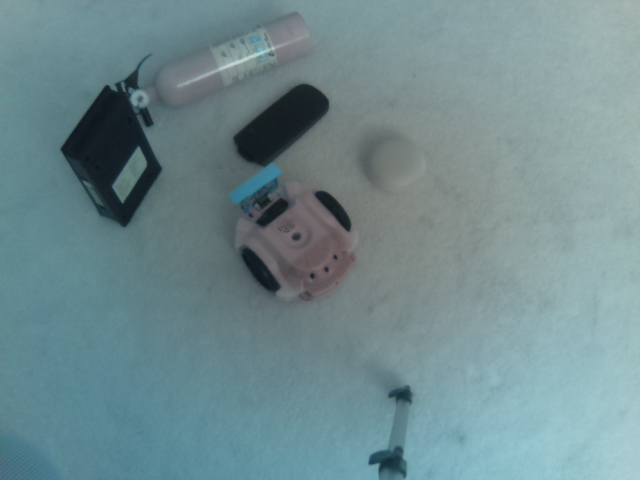board: (221, 162, 287, 211)
chassis: (221, 161, 379, 308)
